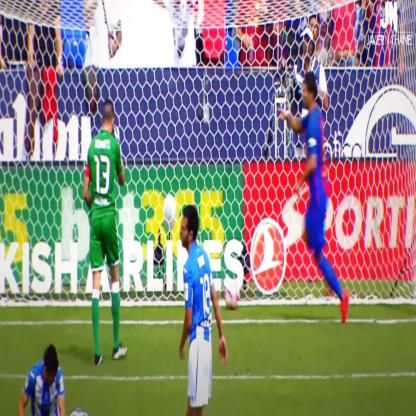goal: (147, 142, 234, 323)
